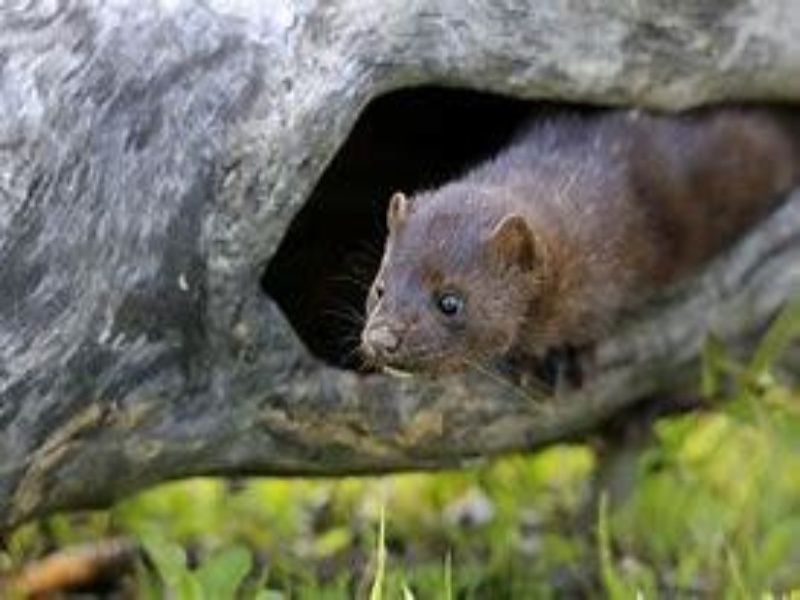minkish: (358, 98, 795, 395)
